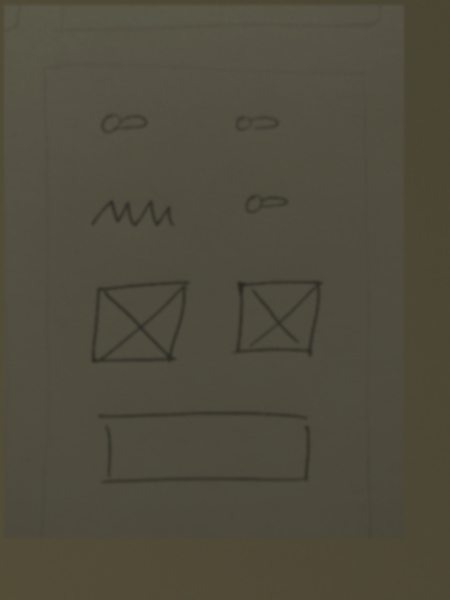image: (74, 275, 202, 372), (222, 272, 333, 367)
switch: (226, 106, 292, 148), (234, 186, 301, 223), (95, 105, 157, 140)
text_input: (79, 403, 327, 495), (81, 190, 190, 234)
